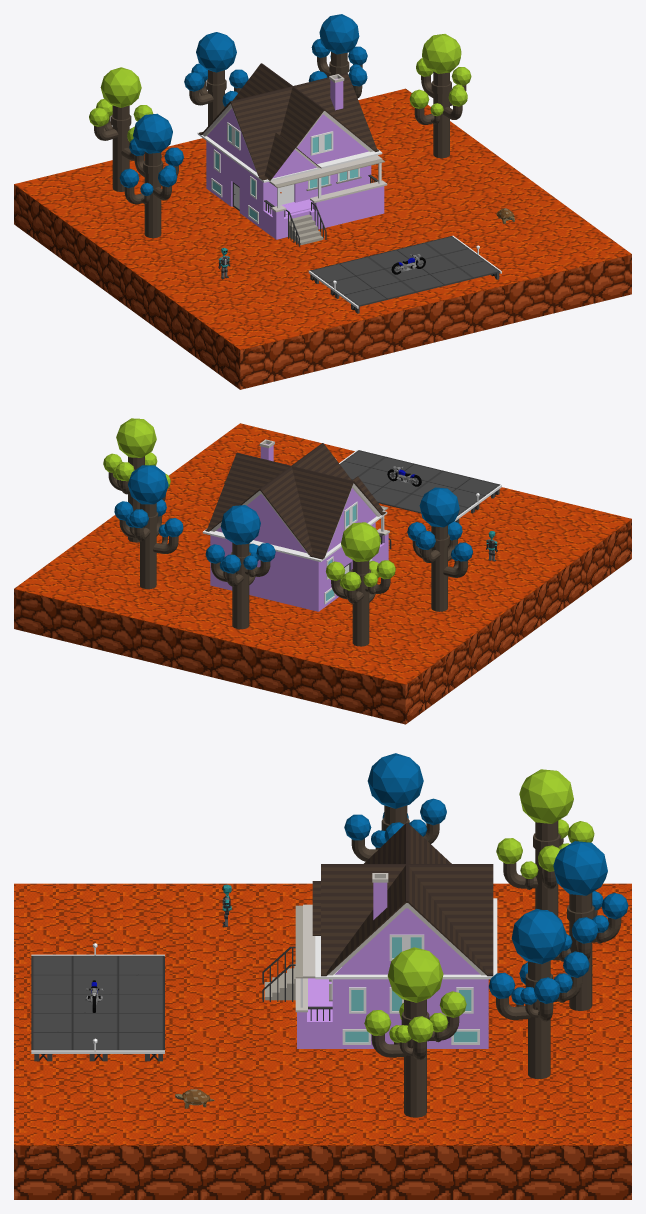
3 views of the same model, one above another, from view 1: azimuth 30°, elevation 25°; view 2: azimuth 150°, elevation 25°; view 3: azimuth 270°, elevation 25° (orthographic). The views are drawn at different scales.
Parts seen in each view (by area): view 1: Cube.001, Cube.391; view 2: Cube.001, Cube.391; view 3: Cube.001, Cube.391.
Boxes of the visible parts, x1,y1,x2,y2 form: Cube.001: (14, 14, 631, 389); Cube.391: (197, 63, 387, 246); Cube.001: (14, 418, 631, 724); Cube.391: (202, 439, 391, 611); Cube.001: (14, 753, 631, 1199); Cube.391: (262, 823, 497, 1048).
Size of the model in its own units: 4000 by 1672 by 4000.
35 materials, 4 textured.
